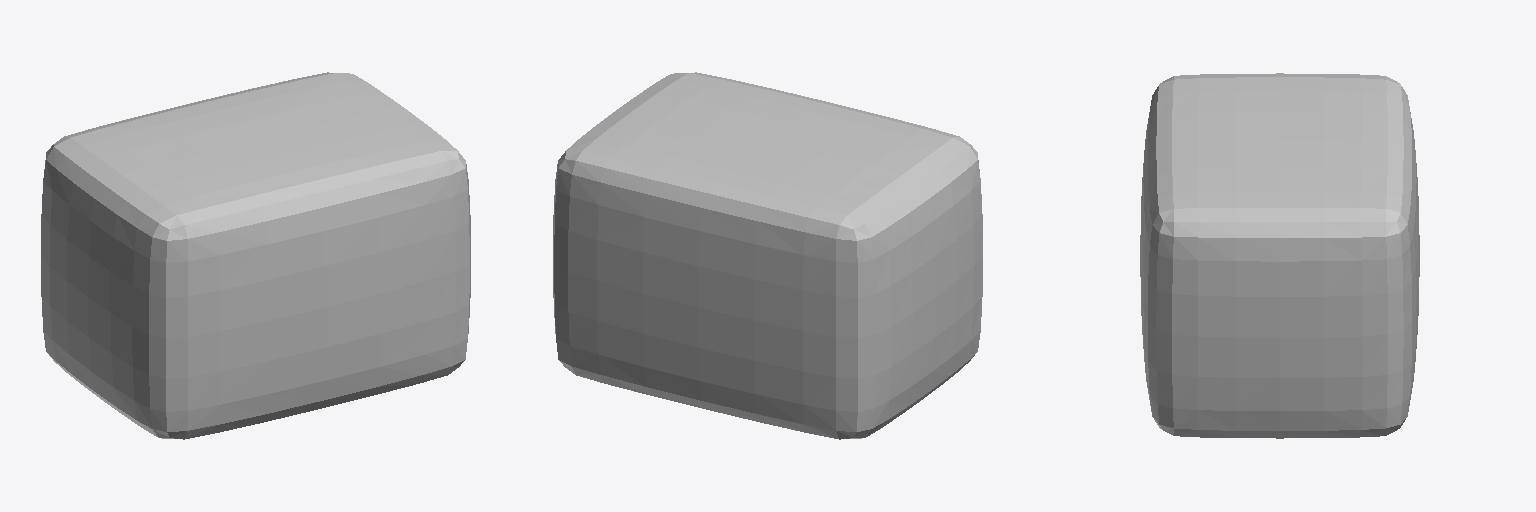
Rendered from bot.obj.
3 views of the same model, side by side, from view 1: azimuth 30°, elevation 25°; view 2: azimuth 150°, elevation 25°; view 3: azimuth 270°, elevation 25° (orthographic).
Visible parts, largest first — view 1: polySurface15 polySurface2; view 2: polySurface15 polySurface2; view 3: polySurface15 polySurface2.
Part boxes in pixels (bbox=[...]): polySurface15 polySurface2: bbox=[41, 72, 470, 439]; polySurface15 polySurface2: bbox=[553, 72, 982, 439]; polySurface15 polySurface2: bbox=[1140, 73, 1419, 438].
Size of the model in its own units: 2.94 by 1.94 by 2.12.